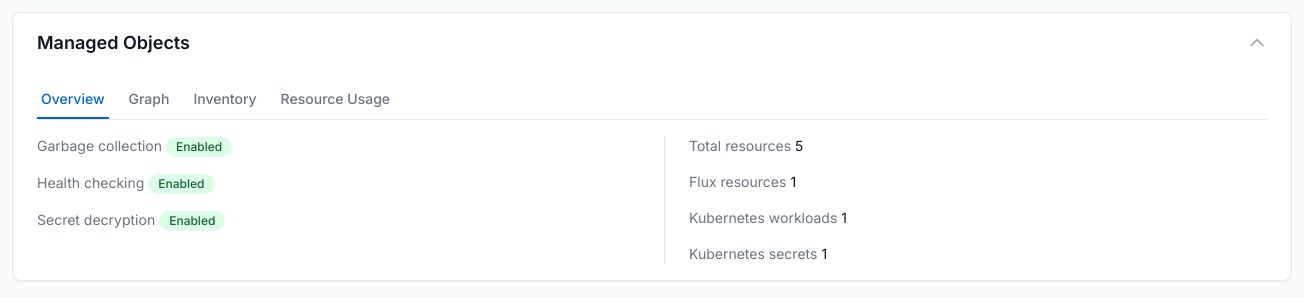
it: ManagedObjectsPanel component › should switch to inventory tab when clicked
The image size is (1304, 298).
Click on Inventory tab
Click the button "Inventory" at (225, 100), box x1=189 y1=81 x2=261 y2=119
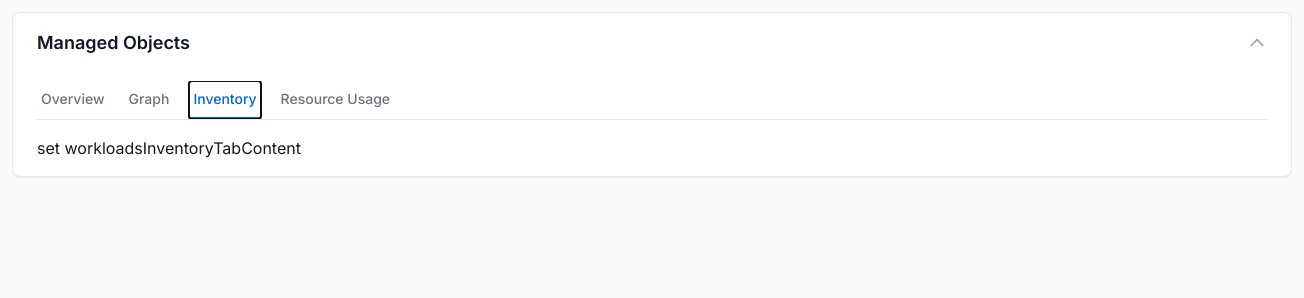
Expected: the element with test id "inventory-tab-content" is shown, x1=37 y1=136 x2=301 y2=160
